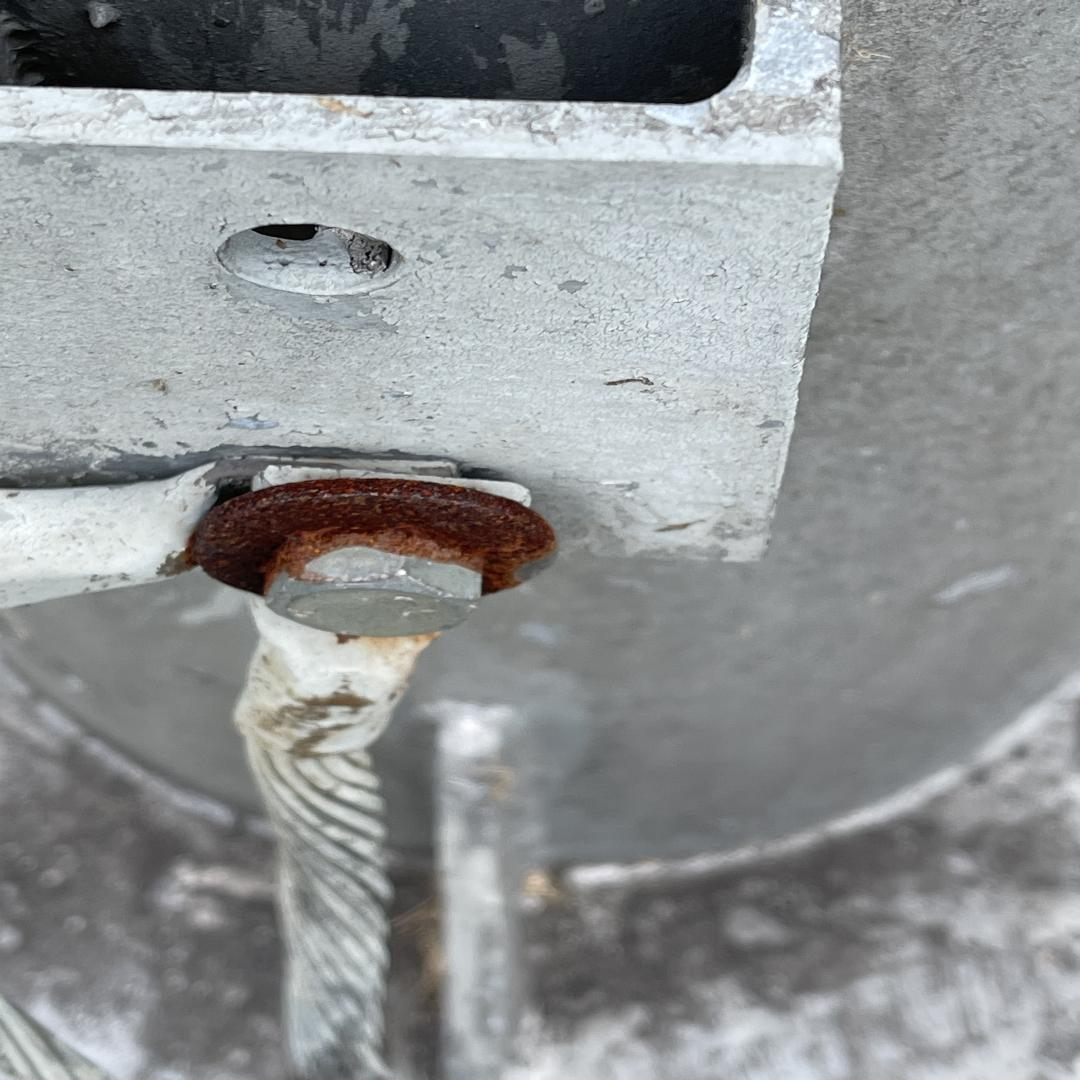Metal: (0, 0, 1080, 864), (182, 477, 555, 599)
Tornillo sin corrosion: (264, 545, 482, 636)
